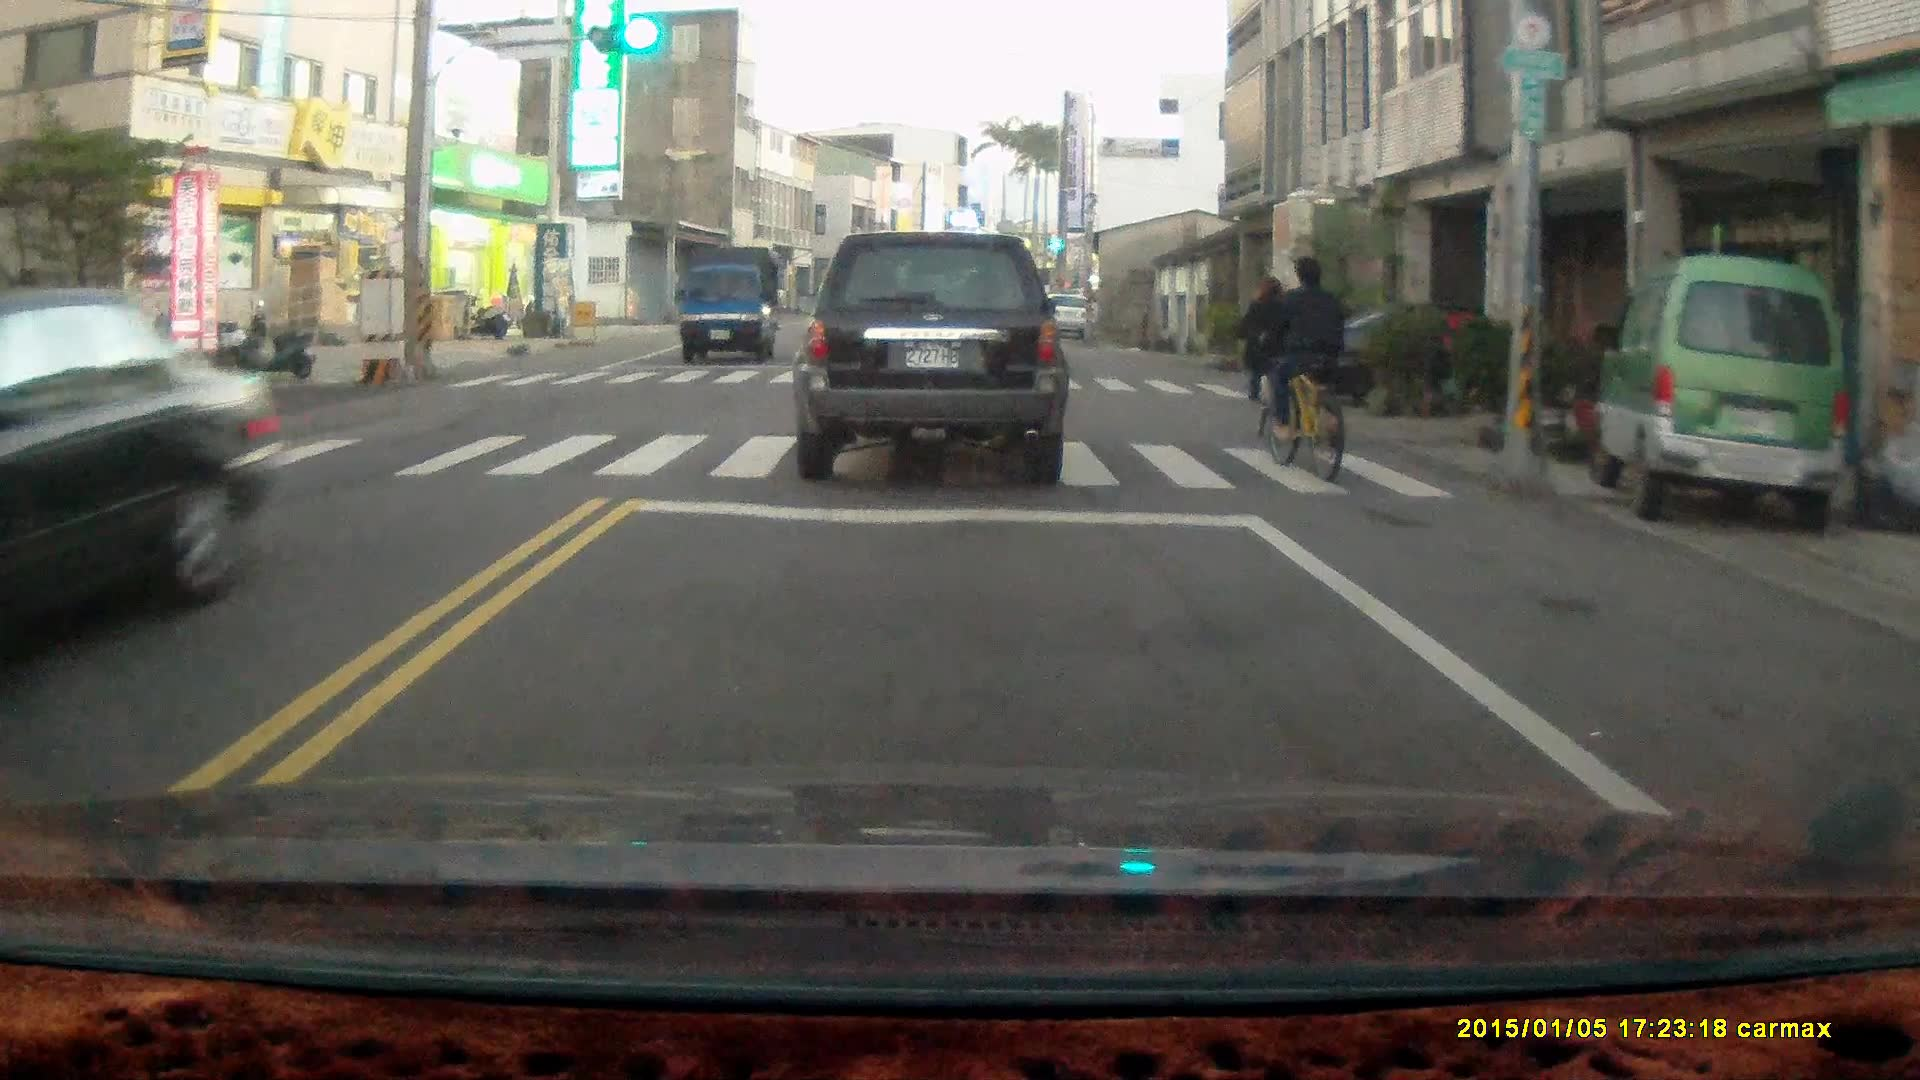rider: (1263, 252, 1354, 479), (1238, 274, 1299, 441)
vehicle: (2, 295, 267, 678), (1605, 257, 1858, 538), (795, 229, 1069, 484), (1320, 304, 1587, 420), (678, 251, 784, 364)
